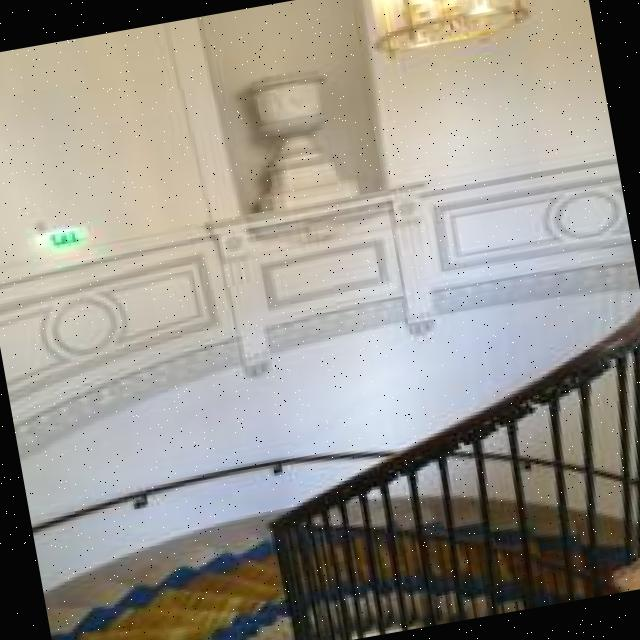stairs: (23, 370, 640, 640)
